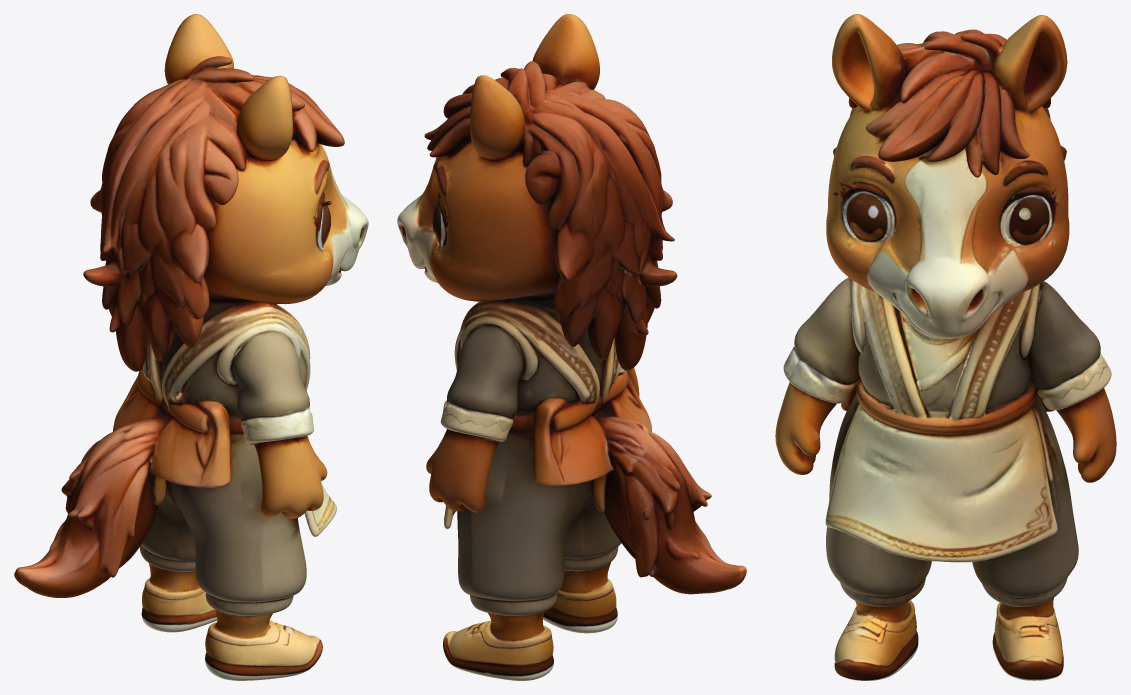
The model's file is role-3.glb.
3 renders of one model, left to right at view 1: azimuth 30°, elevation 25°; view 2: azimuth 150°, elevation 25°; view 3: azimuth 270°, elevation 25°, orthographic. The views are drawn at different scales.
Visible parts, largest first — view 1: tripo_node_ea62df79-6be5-4385-b691-075bd370c98d; view 2: tripo_node_ea62df79-6be5-4385-b691-075bd370c98d; view 3: tripo_node_ea62df79-6be5-4385-b691-075bd370c98d.
Boxes of the visible parts, <box> form: tripo_node_ea62df79-6be5-4385-b691-075bd370c98d: <box>14,14,368,680</box>; tripo_node_ea62df79-6be5-4385-b691-075bd370c98d: <box>397,14,746,680</box>; tripo_node_ea62df79-6be5-4385-b691-075bd370c98d: <box>775,14,1116,680</box>.
Bounding box in the file's own units: 0.6043 × 0.9999 × 0.4739.
Materials: 1 (1 with a texture image).
